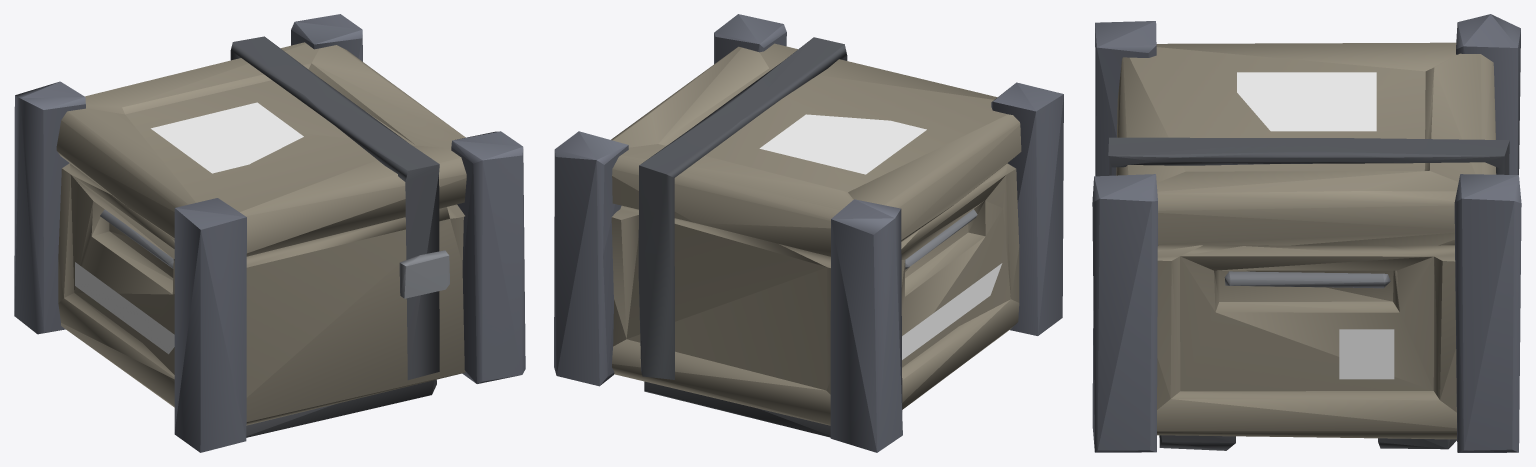
Rendered from caisse_s_b.glb.
3 views of the same model, side by side, from view 1: azimuth 30°, elevation 25°; view 2: azimuth 150°, elevation 25°; view 3: azimuth 270°, elevation 25° (orthographic). The views are drawn at different scales.
Visible parts, largest first — view 1: caisse_s_b, caisse_s_b_decal; view 2: caisse_s_b, caisse_s_b_decal; view 3: caisse_s_b, caisse_s_b_decal.
Boxes of the visible parts, <box> form: caisse_s_b: <box>14,14,525,452</box>; caisse_s_b_decal: <box>75,102,303,354</box>; caisse_s_b: <box>554,14,1063,452</box>; caisse_s_b_decal: <box>759,114,1002,359</box>; caisse_s_b: <box>1092,14,1521,452</box>; caisse_s_b_decal: <box>1237,72,1394,379</box>.
Bounding box in the file's own units: 0.6348 × 0.4689 × 0.6276.
